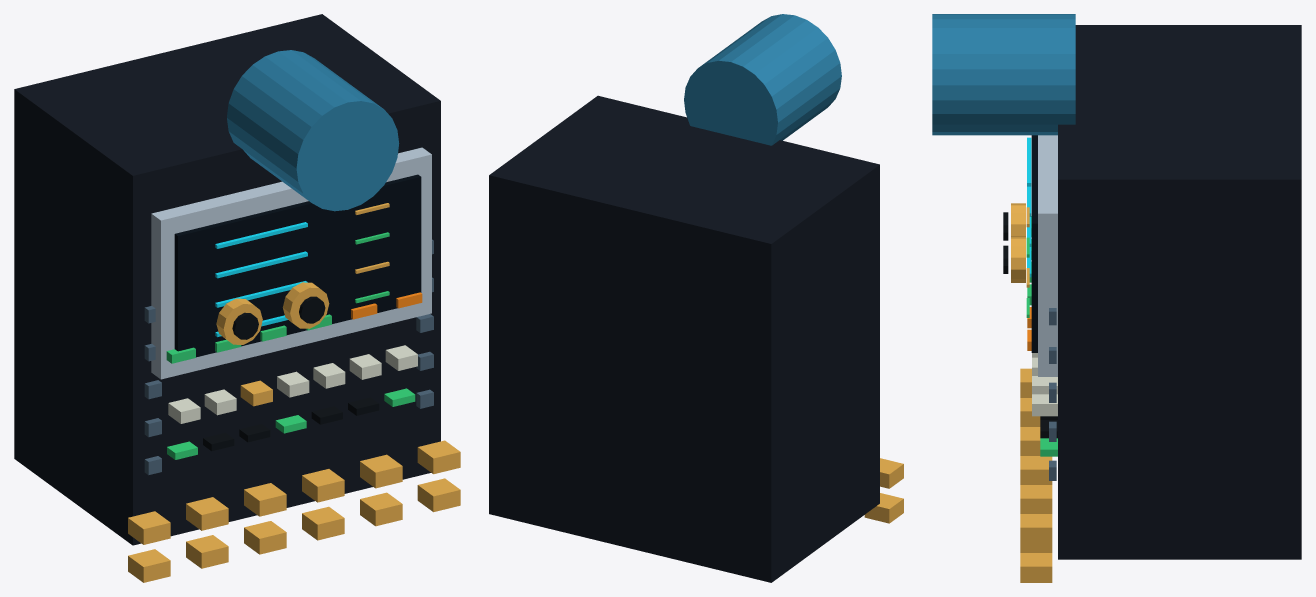
The model's file is 40_L92_BitThermalProbe.fbx.
3 views of the same model, side by side, from view 1: azimuth 30°, elevation 25°; view 2: azimuth 150°, elevation 25°; view 3: azimuth 270°, elevation 25° (orthographic). The views are drawn at different scales.
Visible parts, largest first — view 1: L92_BitThermalProbe, L92_BitThermalProbe_Part_0011, L92_BitThermalProbe_Part_0014, L92_BitThermalProbe_Part_0012, L92_BitThermalProbe_Part_0009, L92_BitThermalProbe_Part_0010; view 2: L92_BitThermalProbe, L92_BitThermalProbe_Part_0011; view 3: L92_BitThermalProbe, L92_BitThermalProbe_Part_0011, L92_BitThermalProbe_Part_0014, L92_BitThermalProbe_Part_0012.
Part boxes in pixels (box(x1,y1,x2,y2)): L92_BitThermalProbe: box(14, 14, 460, 582); L92_BitThermalProbe_Part_0011: box(227, 50, 399, 211); L92_BitThermalProbe_Part_0014: box(282, 282, 329, 328); L92_BitThermalProbe_Part_0012: box(216, 298, 262, 344); L92_BitThermalProbe_Part_0009: box(166, 314, 331, 363); L92_BitThermalProbe_Part_0010: box(351, 292, 422, 319); L92_BitThermalProbe: box(489, 95, 903, 582); L92_BitThermalProbe_Part_0011: box(684, 14, 841, 145); L92_BitThermalProbe: box(1020, 25, 1301, 582); L92_BitThermalProbe_Part_0011: box(932, 14, 1075, 135); L92_BitThermalProbe_Part_0014: box(1011, 236, 1025, 282); L92_BitThermalProbe_Part_0012: box(1011, 203, 1025, 236).
Size of the model in its own units: 105 by 150 by 103.
